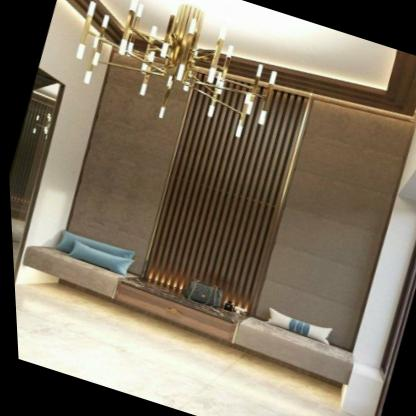Ceramic floor: (12, 270, 350, 416)
Wall Panel: (55, 42, 416, 351)
